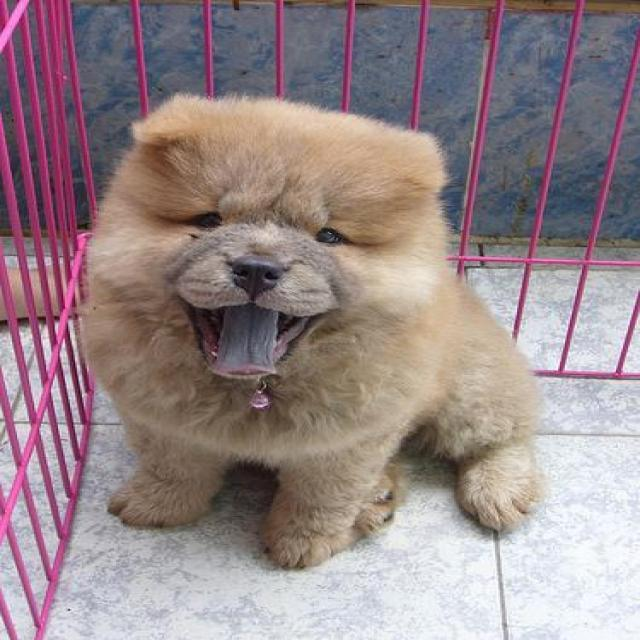puppy-dog: (76, 93, 541, 568)
